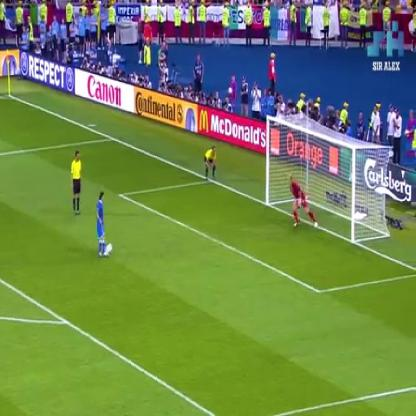penalty kick: (47, 125, 370, 283)
